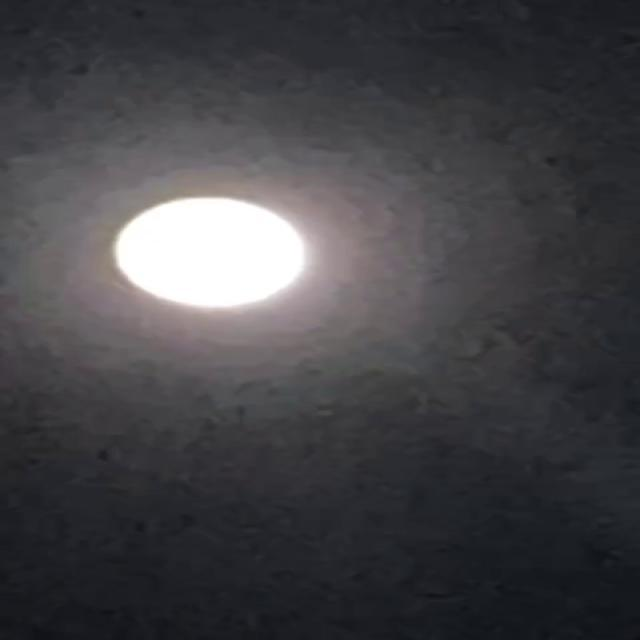moon: (86, 188, 314, 310)
